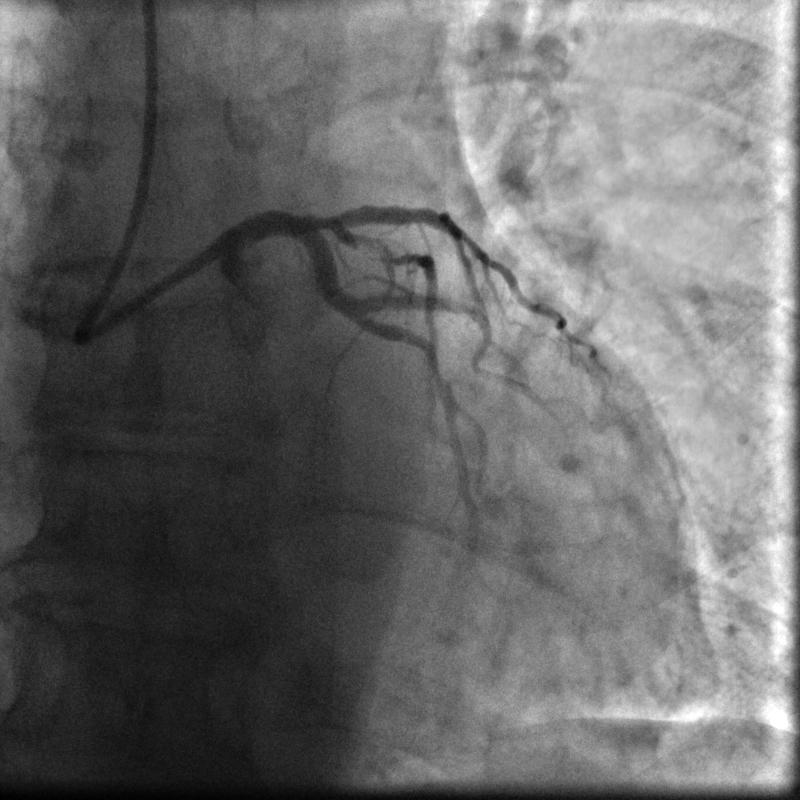Stenosis: (349, 224, 407, 271)
